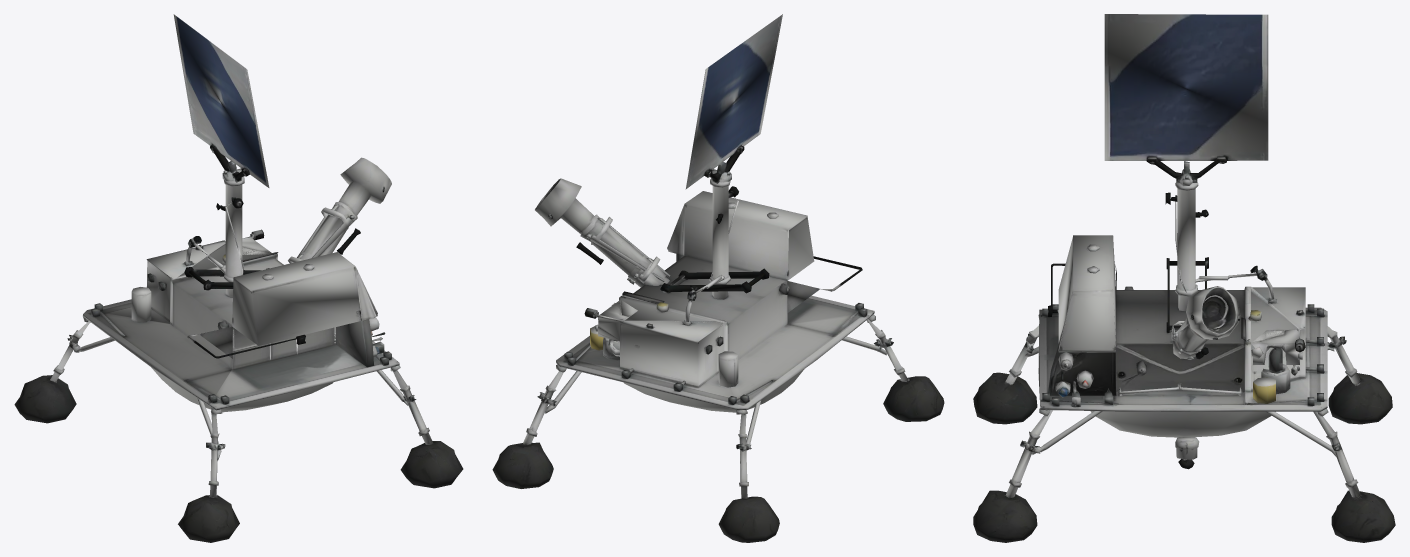
File: surveyor-3.glb
3 renders of one model, left to right at view 1: azimuth 30°, elevation 25°; view 2: azimuth 150°, elevation 25°; view 3: azimuth 270°, elevation 25°, orthographic. The views are drawn at different scales.
Parts seen in each view (by area): view 1: tripo_node_b8a02b77-db0f-4f9c-924a-ca0bb33b788e; view 2: tripo_node_b8a02b77-db0f-4f9c-924a-ca0bb33b788e; view 3: tripo_node_b8a02b77-db0f-4f9c-924a-ca0bb33b788e.
Part boxes in pixels (x1=…): tripo_node_b8a02b77-db0f-4f9c-924a-ca0bb33b788e: x1=14, y1=14, x2=463, y2=542; tripo_node_b8a02b77-db0f-4f9c-924a-ca0bb33b788e: x1=492, y1=14, x2=944, y2=542; tripo_node_b8a02b77-db0f-4f9c-924a-ca0bb33b788e: x1=973, y1=14, x2=1395, y2=542.
Size of the model in its own units: 0.7794 by 0.998 by 0.8613.
Materials: 1 (1 with a texture image).
